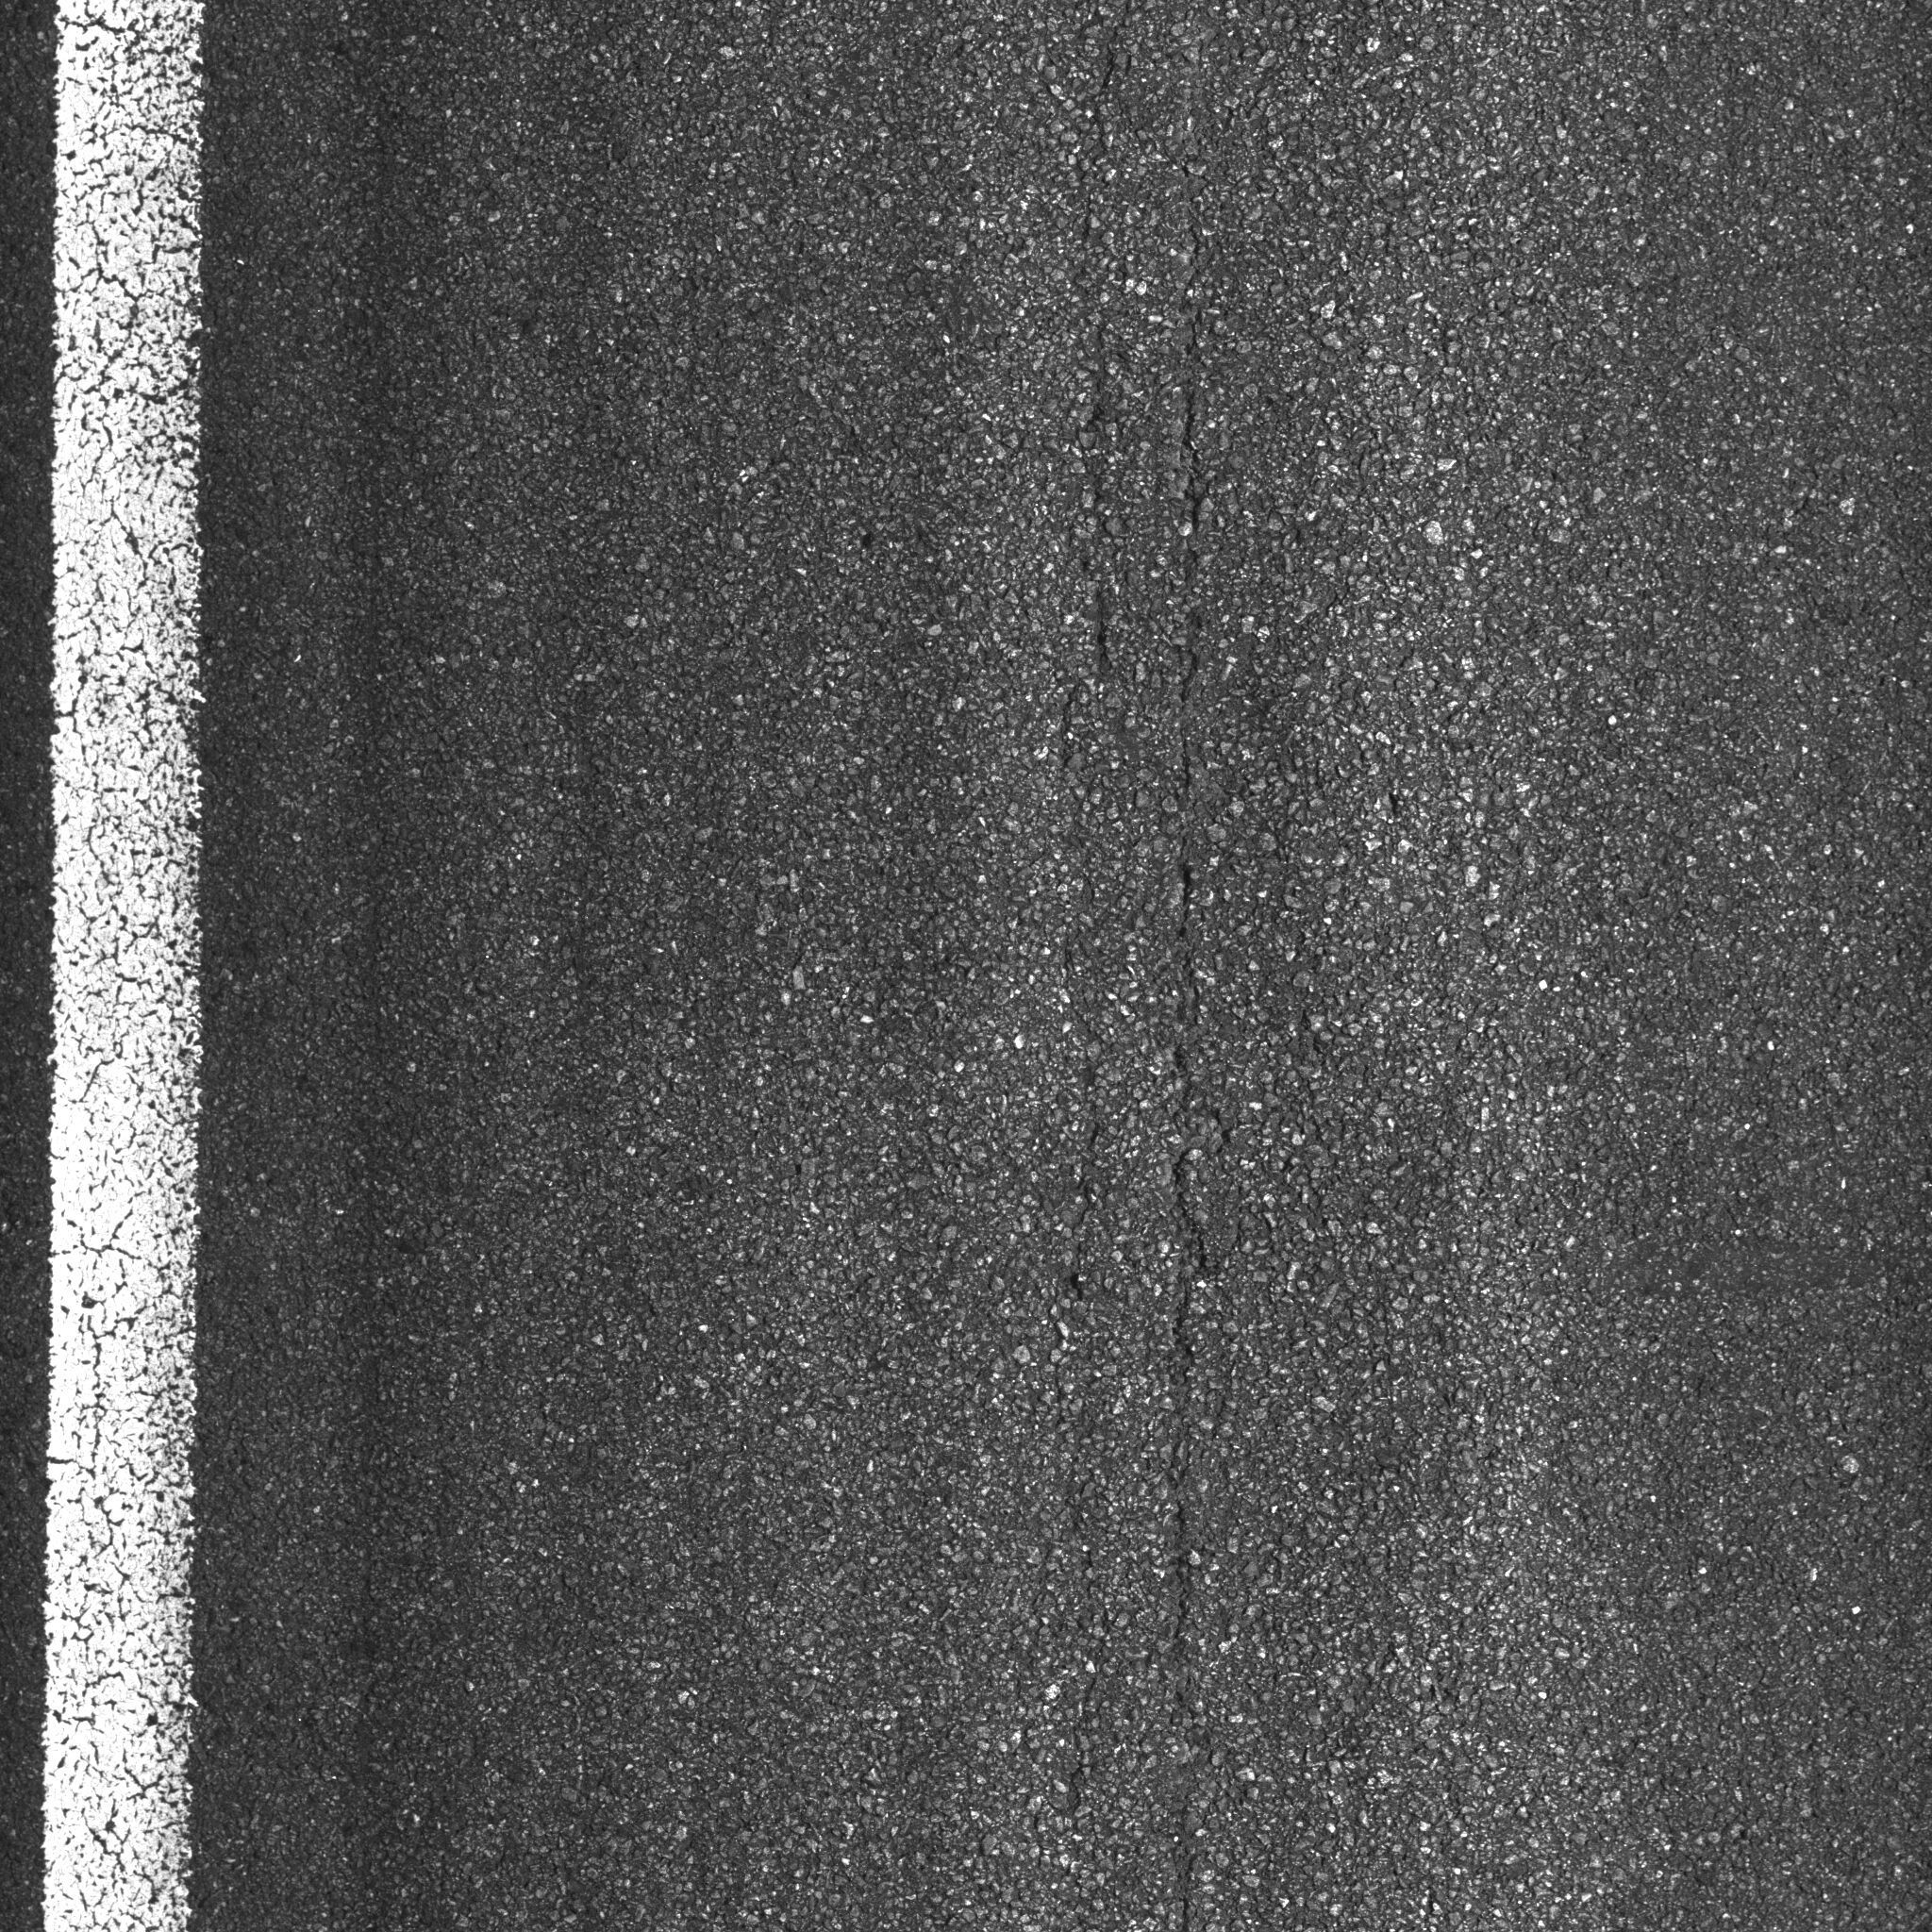longitudinal: (1046, 12, 1277, 1932)
